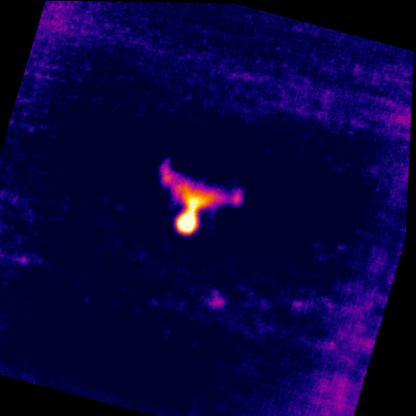drone: (143, 156, 251, 246)
